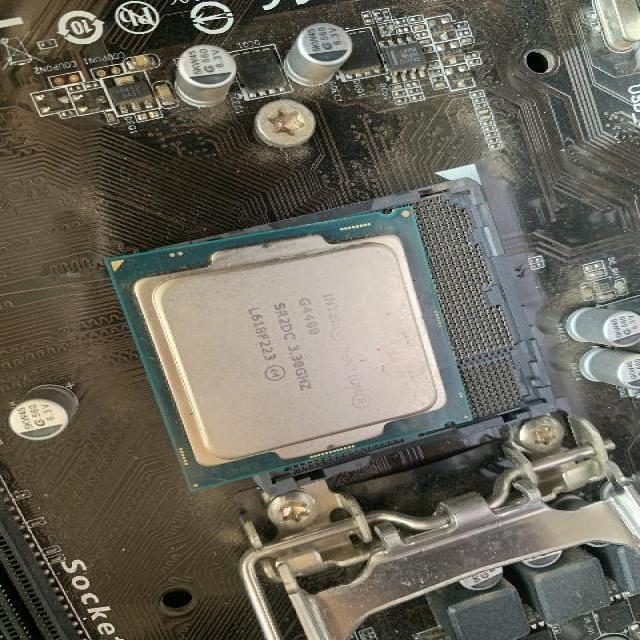CPU: (103, 207, 476, 490)
Mainboard: (4, 1, 640, 639)
